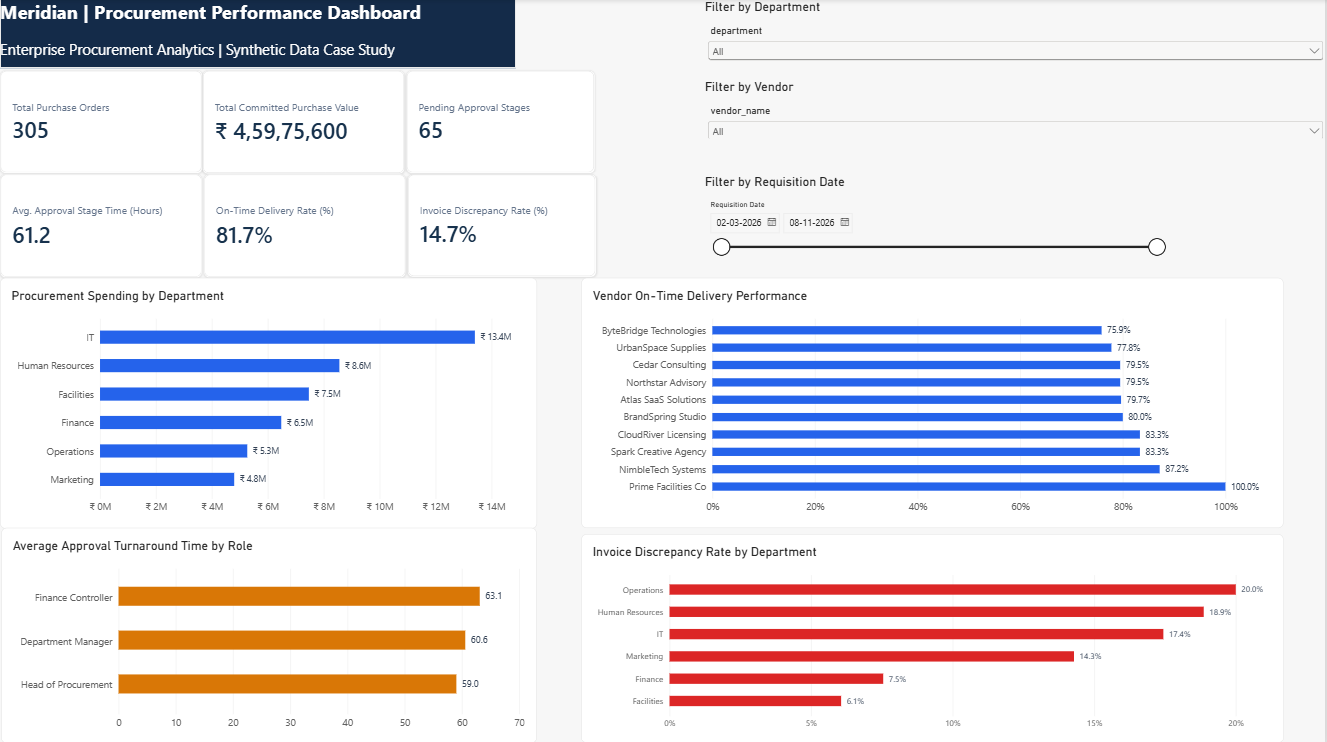

The page's visual inventory and layout, read from the dashboard file:
{"tool":"powerbi","page":{"name":"Executive Overview","canvas":[1920,1080],"ordinal":0},"visuals":[{"type":"cardVisual","fields":{"Data":["purchase_orders.Total Purchase Orders"]},"box":[0,102.6,293.9,149.7],"z":0},{"type":"cardVisual","fields":{"Data":["purchase_orders.Total Committed Purchase Value"]},"box":[293.1,102.6,293.2,150.2],"z":1000},{"type":"cardVisual","fields":{"Data":["approvals.Average Approval Time (Hours)"]},"box":[0,252.8,293,150],"z":2000},{"type":"cardVisual","fields":{"Data":["purchase_orders.On-Time Delivery Rate (%)"]},"box":[295,252.8,293,150],"z":3000},{"type":"cardVisual","fields":{"Data":["invoices.Invoice Discrepancy Rate (%)"]},"box":[589.9,252.8,273.8,149.7],"z":4000},{"type":"cardVisual","fields":{"Data":["approvals.Pending Approval Count"]},"box":[588.1,102.6,273.8,149.7],"z":5000},{"type":"clusteredBarChart","title":"Procurement Spending by Department","fields":{"Category":["requisitions.department"],"Y":["purchase_orders.Total Committed Purchase Value"]},"box":[0,403.1,777.6,363.3],"z":6000},{"type":"clusteredBarChart","title":"Vendor On-Time Delivery Performance","fields":{"Category":["vendors.vendor_name"],"Y":["purchase_orders.On-Time Delivery Rate (%)"]},"box":[840.9,403.1,1016.8,362.7],"z":7000},{"type":"clusteredBarChart","title":"Average Approval Turnaround Time by Role","fields":{"Category":["approvals.approver_role"],"Y":["approvals.Average Approval Time (Hours)"]},"box":[1.8,765.8,775,313.3],"z":8000},{"type":"clusteredBarChart","title":"Invoice Discrepancy Rate by Department","fields":{"Category":["requisitions.department"],"Y":["invoices.Invoice Discrepancy Rate (%)"]},"box":[840.9,775,1016.8,304.1],"z":9000},{"type":"slicer","title":"Filter by Department","fields":{"Values":["requisitions.department"]},"box":[1020.5,0,899.9,94.9],"z":10000},{"type":"slicer","title":"Filter by Vendor","fields":{"Values":["vendors.vendor_name"]},"box":[1020.5,115.4,899.9,85.8],"z":11000},{"type":"slicer","title":"Filter by Requisition Date","fields":{"Values":["requisitions.Requisition Date"]},"box":[1019.8,252.5,669.9,118.7],"z":12000},{"type":"shape","box":[0,0,746.6,100.4],"z":13000},{"type":"textbox","box":[0,0,613.4,40.2],"z":14000},{"type":"textbox","box":[0,58.6,586.3,44],"z":15000}]}

Visuals, with their boxes in screenshot pixels (x1, y1, x2, y2), scaled from the page's 1920x1080 canvas onto the 1327x742 screenshot:
cardVisual - purchase_orders.Total Purchase Orders: [0, 70, 203, 173]
cardVisual - purchase_orders.Total Committed Purchase Value: [203, 70, 405, 174]
cardVisual - approvals.Average Approval Time (Hours): [0, 174, 203, 277]
cardVisual - purchase_orders.On-Time Delivery Rate (%): [204, 174, 406, 277]
cardVisual - invoices.Invoice Discrepancy Rate (%): [408, 174, 597, 277]
cardVisual - approvals.Pending Approval Count: [406, 70, 596, 173]
"Procurement Spending by Department" clusteredBarChart: [0, 277, 537, 527]
"Vendor On-Time Delivery Performance" clusteredBarChart: [581, 277, 1284, 526]
"Average Approval Turnaround Time by Role" clusteredBarChart: [1, 526, 537, 741]
"Invoice Discrepancy Rate by Department" clusteredBarChart: [581, 532, 1284, 741]
"Filter by Department" slicer: [705, 0, 1326, 65]
"Filter by Vendor" slicer: [705, 79, 1326, 138]
"Filter by Requisition Date" slicer: [705, 173, 1168, 255]
shape: [0, 0, 516, 69]
textbox: [0, 0, 424, 28]
textbox: [0, 40, 405, 70]
